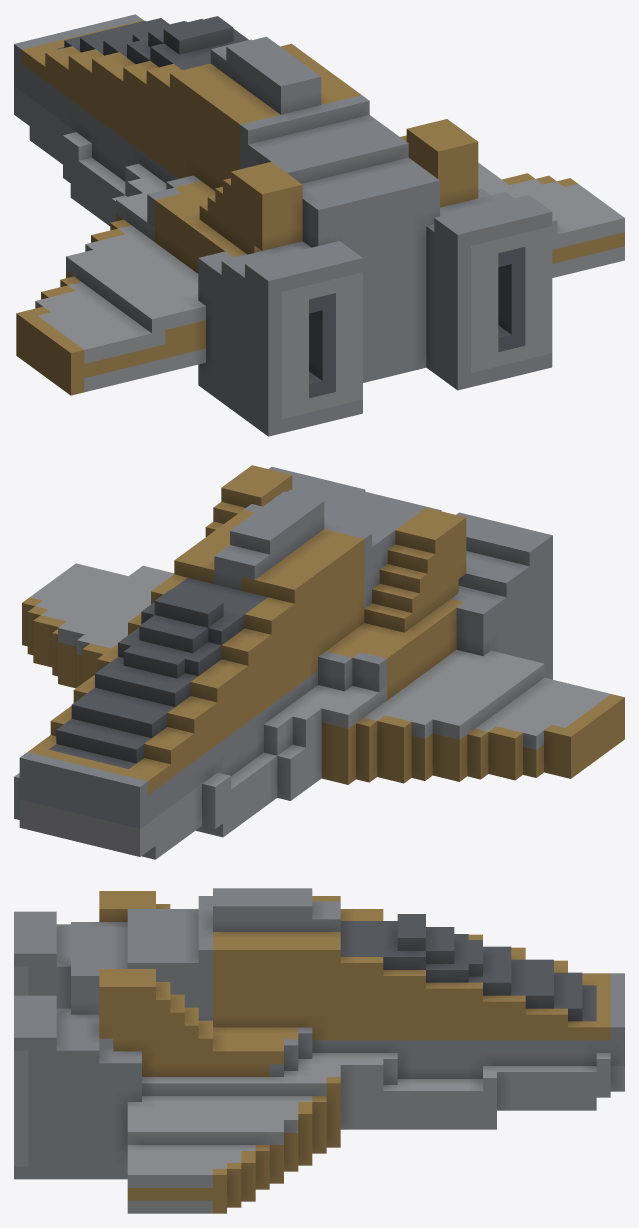
File: speeder_a.glb
The picture shows the model from 3 angles, top to bottom: view 1: azimuth 30°, elevation 25°; view 2: azimuth 150°, elevation 25°; view 3: azimuth 270°, elevation 25°; orthographic projection. The views are drawn at different scales.
Parts seen in each view (by area): view 1: voxels; view 2: voxels; view 3: voxels.
Boxes of the visible parts, <box> form: voxels: <box>14,14,624,436</box>; voxels: <box>14,465,624,859</box>; voxels: <box>14,888,624,1213</box>.
Size of the model in its own units: 2.05 by 0.8499 by 2.15.
